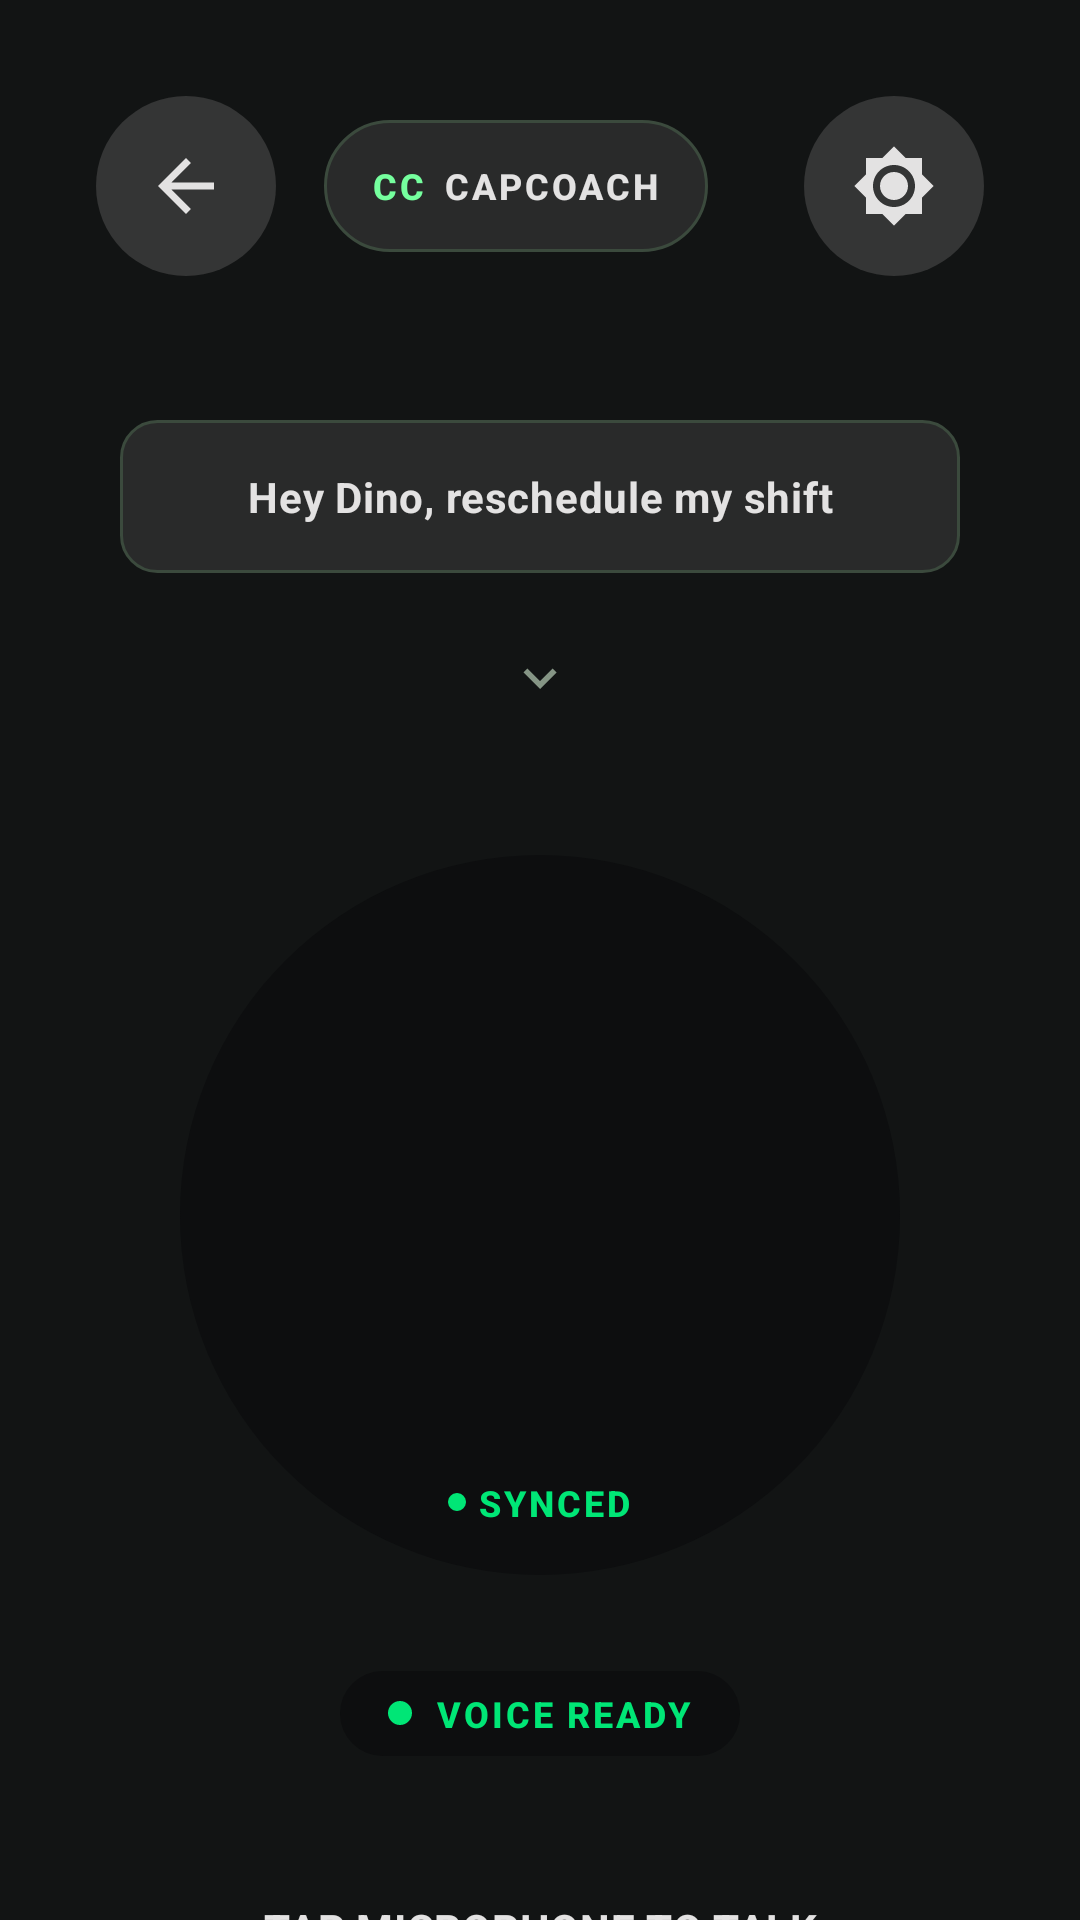

Locate icon controls on the screen. Image size 1080*1920, boxes as bbox=[x1, y1, x2, y2].
arrow back: bbox=[158, 158, 214, 214]
expand more: bbox=[523, 668, 557, 689]
mode: bbox=[854, 146, 934, 226]
